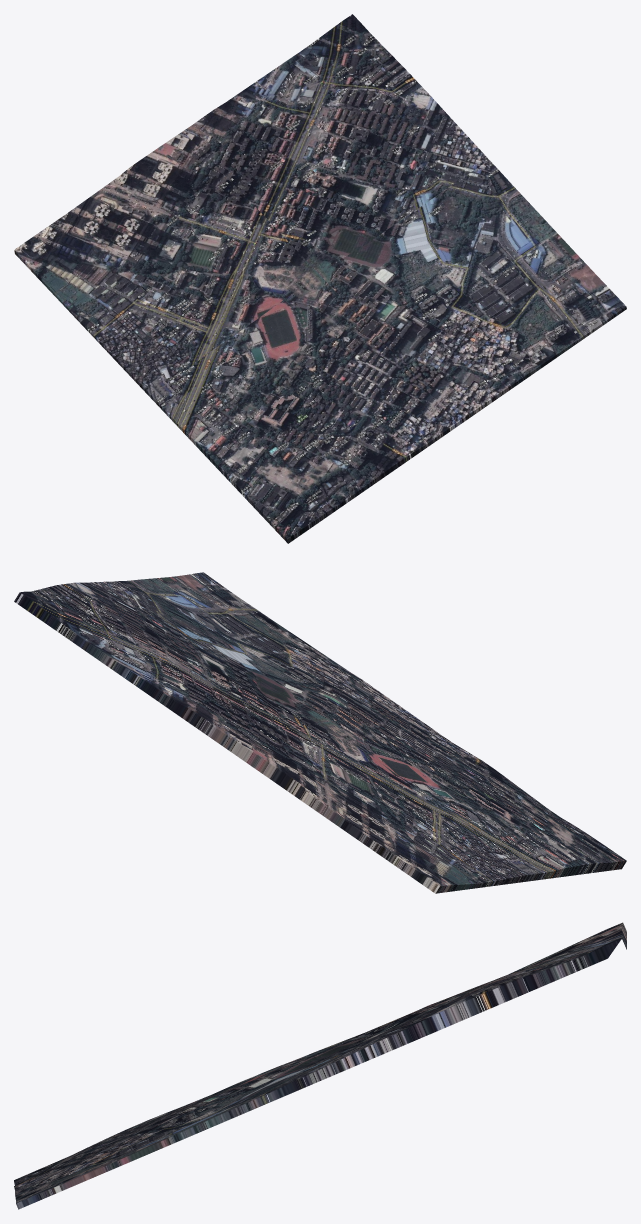
3 views of the same model, one above another, from view 1: azimuth 30°, elevation 25°; view 2: azimuth 150°, elevation 25°; view 3: azimuth 270°, elevation 25° (orthographic). The views are drawn at different scales.
Parts seen in each view (by area): view 1: 1_9_3; view 2: 1_9_3; view 3: 1_9_3.
Part boxes in pixels (bbox=[...]): 1_9_3: bbox=[14, 14, 626, 543]; 1_9_3: bbox=[14, 572, 626, 893]; 1_9_3: bbox=[14, 922, 626, 1209].
Size of the model in its own units: 1229 by 902 by 1128.
1 material, 1 textured.
